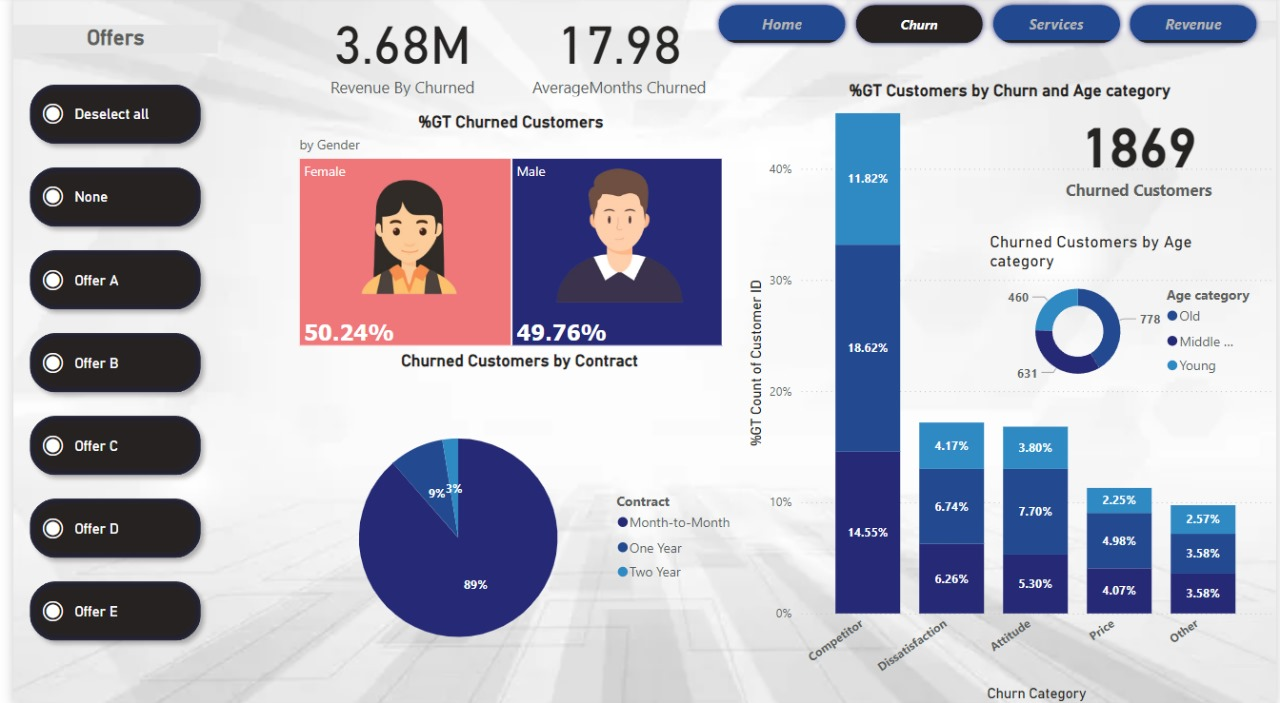

The dashboard page shown, as its layout file describes it:
{"tool":"powerbi","page":{"name":"Churn","canvas":[1280,720],"ordinal":1},"visuals":[{"type":"columnChart","title":"%GT Customers by Churn and Age category","fields":{"Y":["CountNonNull(telecom_customer.Customer ID)"],"Category":["telecom_customer.Churn Category"],"Series":["telecom_customer.Age category"]},"box":[739.5,85.7,540.5,634.6],"z":0},{"type":"pieChart","fields":{"Category":["telecom_customer.Contract"],"Y":["telecom_customer.Churned Customers"]},"box":[285.4,359.5,454.2,360.9],"z":1000},{"type":"card","fields":{"Values":["telecom_customer.Churn Customers"]},"box":[1015.8,85.7,249.7,144.8],"z":2000},{"type":"treemap","fields":{"Values":["telecom_customer.Churned Customers"],"Group":["telecom_customer.Gender"]},"box":[285.1,116.9,439,242.3],"z":3000},{"type":"donutChart","fields":{"Y":["telecom_customer.Churned Customers"],"Category":["telecom_customer.Age category"]},"box":[984.5,238.9,281.1,164.1],"z":4000},{"type":"card","fields":{"Values":["telecom_customer.AverageMonths Churned"]},"box":[504.6,0,219.5,106.9],"z":5000},{"type":"card","fields":{"Values":["telecom_customer.Revenue By Churned"]},"box":[285.1,0,219.5,106.9],"z":6000},{"type":"listSlicer","fields":{"Values":["telecom_customer.Offer"]},"box":[0,28.5,207.3,659.1],"z":7000},{"type":"pageNavigator","box":[709.3,4,557.5,49.7],"z":8000},{"type":"image","box":[544.1,159.3,179.8,170.1],"z":9000},{"type":"image","box":[259.4,117,232.8,259.4],"z":10000}]}

Visuals, with their boxes in screenshot pixels (x1, y1, x2, y2), scaled from the page's 1280x720 canvas onto the 1280x703 screenshot:
"%GT Customers by Churn and Age category" columnChart: 740:84:1279:702
pieChart - telecom_customer.Contract x telecom_customer.Churned Customers: 285:351:740:702
card - telecom_customer.Churn Customers: 1016:84:1266:225
treemap - telecom_customer.Churned Customers x telecom_customer.Gender: 285:114:724:351
donutChart - telecom_customer.Churned Customers x telecom_customer.Age category: 984:233:1266:393
card - telecom_customer.AverageMonths Churned: 505:0:724:104
card - telecom_customer.Revenue By Churned: 285:0:505:104
listSlicer - telecom_customer.Offer: 0:28:207:671
pageNavigator: 709:4:1267:52
image: 544:156:724:322
image: 259:114:492:368
